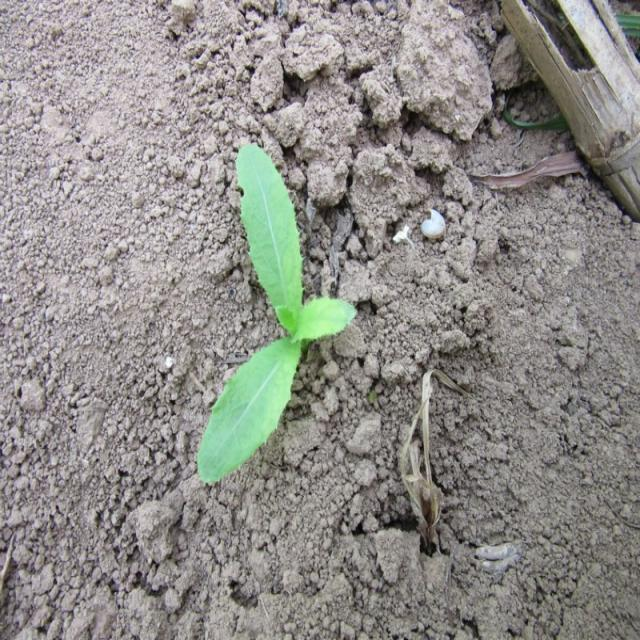field_thistle: (182, 144, 358, 476)
